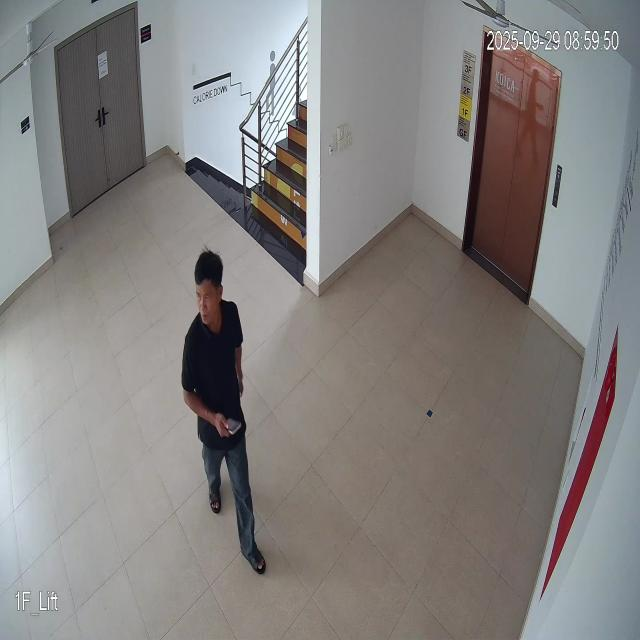face: (190, 240, 228, 333)
